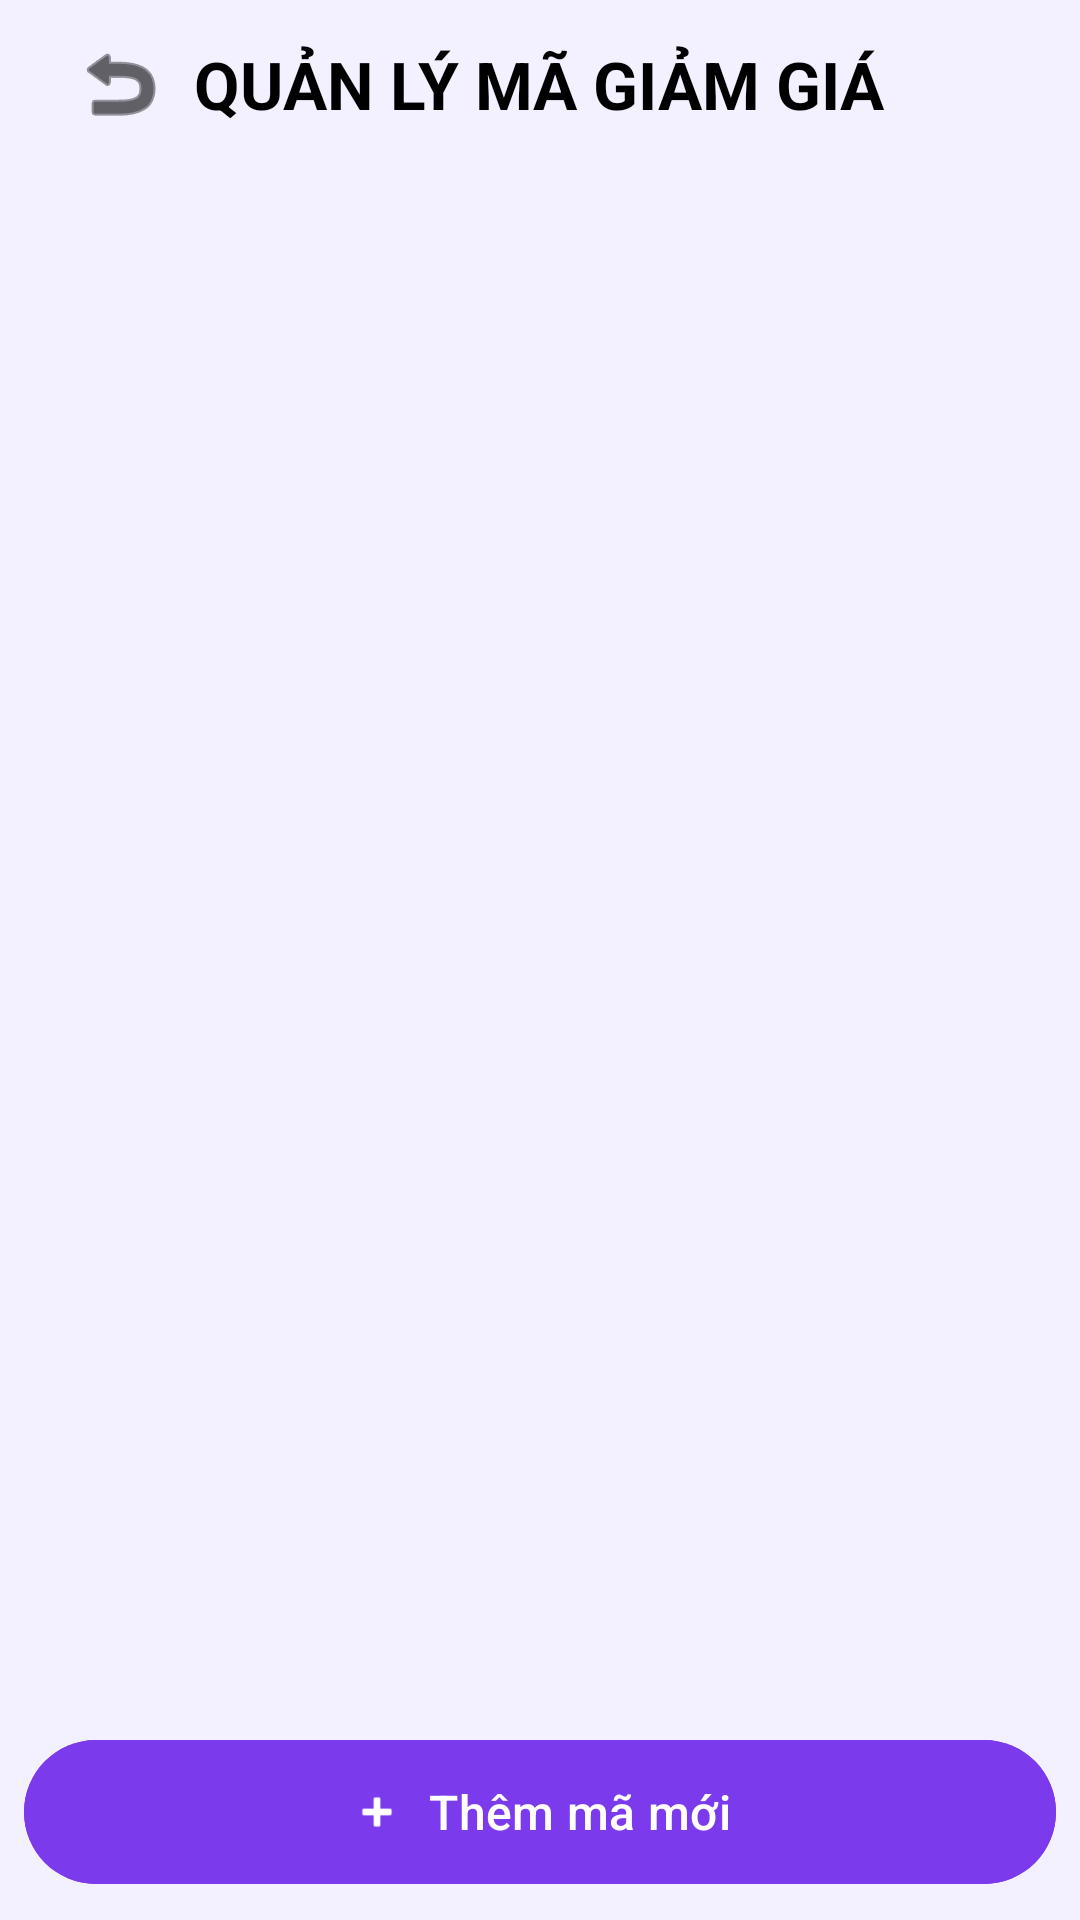

Icons on this 1080×1920 Android screen, each with its box as [x1,y1,x2,y2]:
Quay lại: [87,53,156,116]
